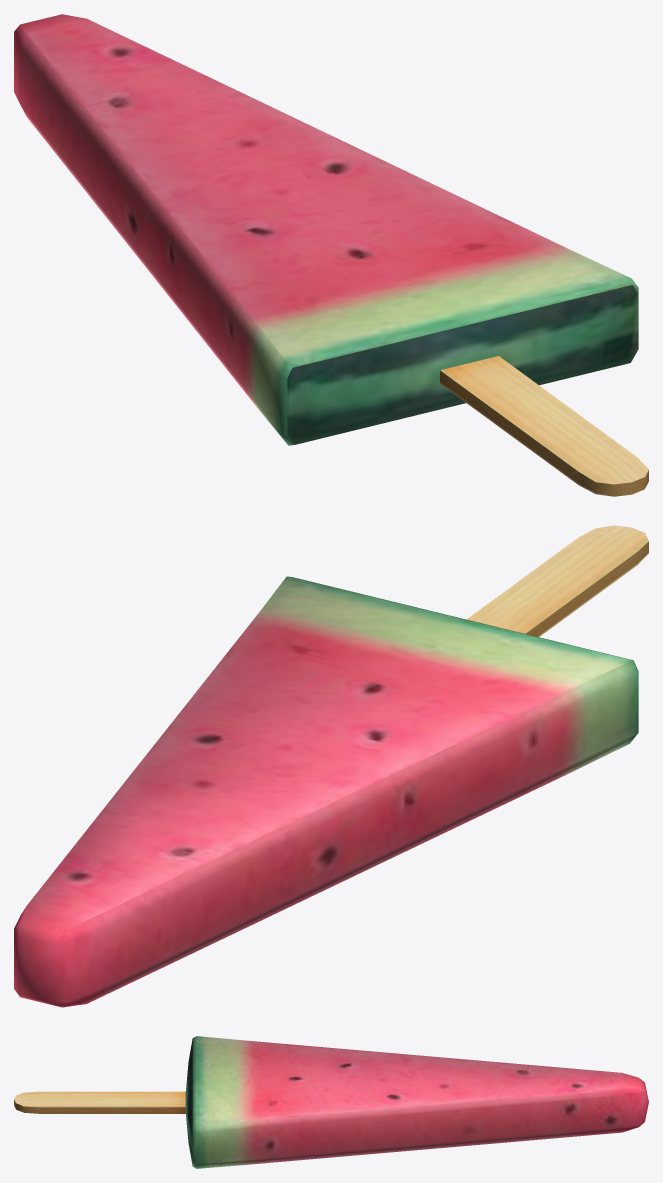
The model's file is sword_suikaber_w_suikaber.glb.
3 views of the same model, one above another, from view 1: azimuth 30°, elevation 25°; view 2: azimuth 150°, elevation 25°; view 3: azimuth 270°, elevation 25° (orthographic). The views are drawn at different scales.
Size of the model in its own units: 0.2651 by 0.0589 by 0.7672.
1 material, 1 textured.
